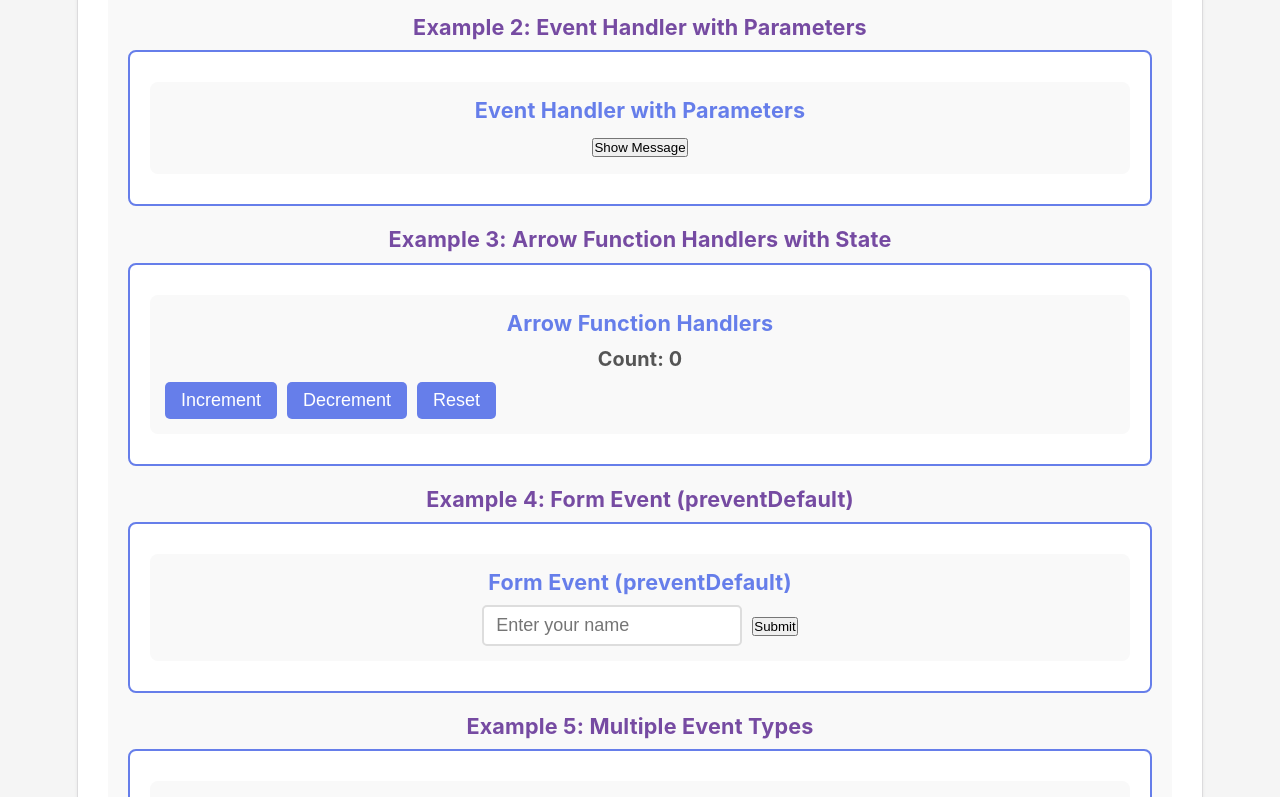
Test: EventHandlingDemo › decrements counter when decrement button is clicked
(page scrolled)
Expected: the text "Count: 0" is shown, [598, 347, 682, 371]
Click the button "Decrement" at (347, 400), box [287, 382, 407, 419]
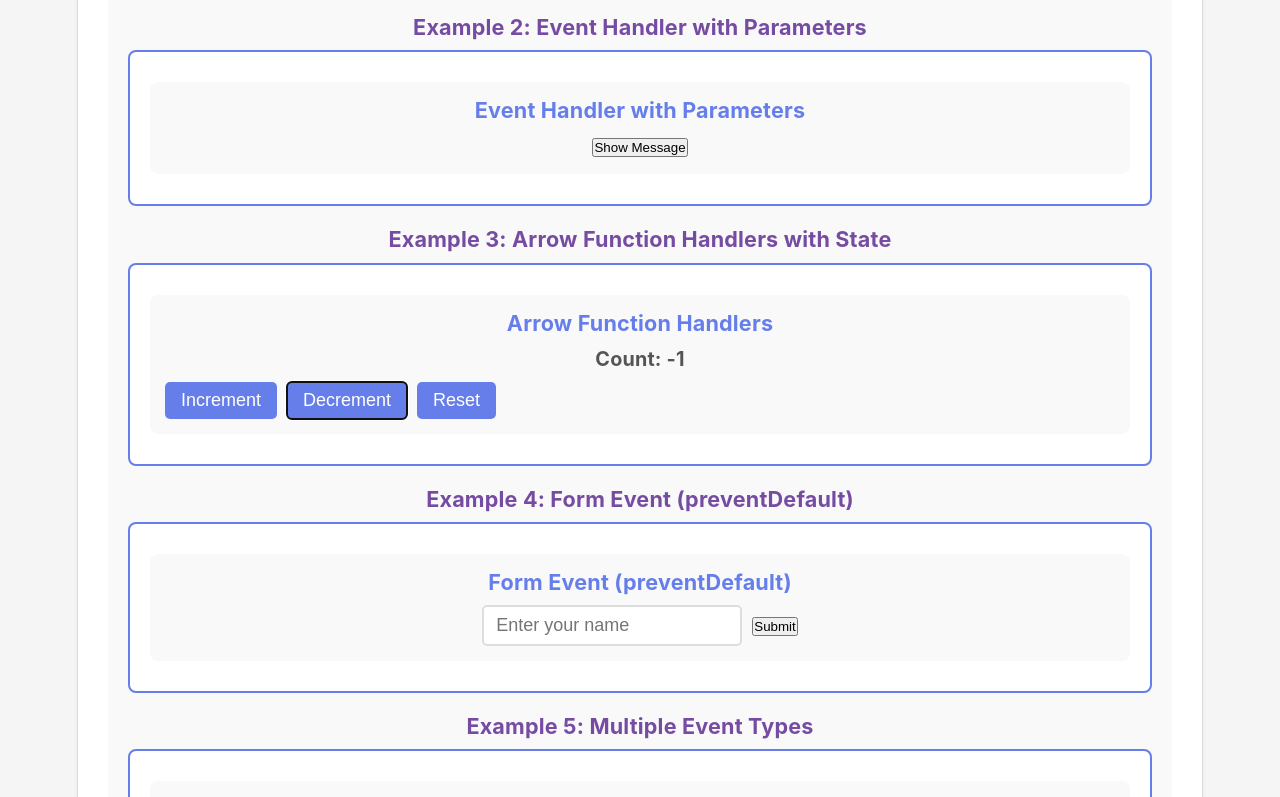
Now the text "Count: -1" is shown, box [595, 347, 685, 371]
